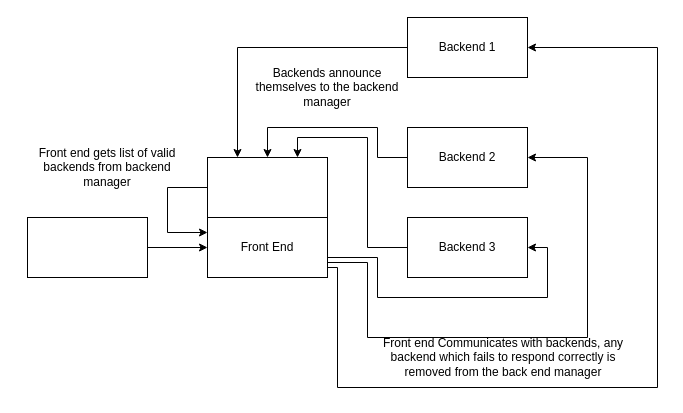
This 683x413 diagram has some shape labels left out. Here are the shapes that lost their labels. From the top down, the centre of each, then its label:
At [267,187]: "Back end manager".
At [87,247]: "Client".
